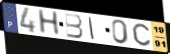0: (111, 19, 130, 45)
4: (19, 7, 38, 35)
B: (64, 13, 85, 40)
C: (131, 22, 152, 47)
H: (37, 8, 62, 36)
I: (87, 16, 95, 41)
